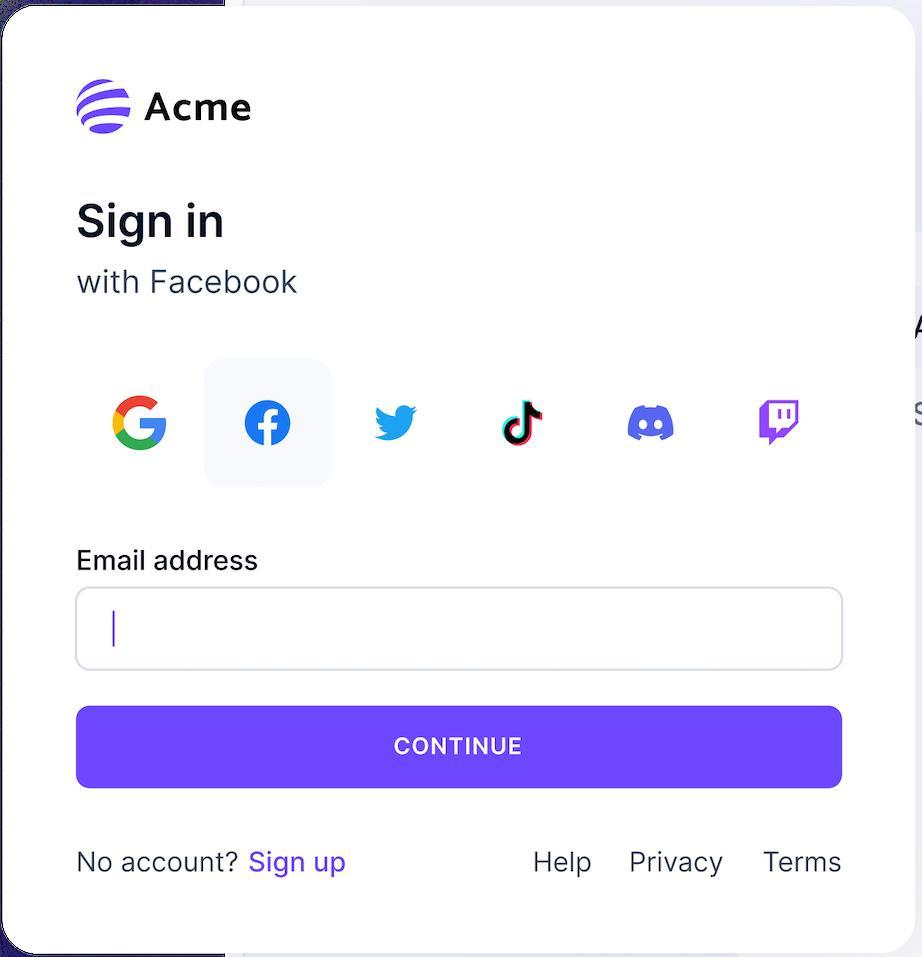button: (76, 706, 844, 790)
icon: (234, 398, 306, 454), (624, 395, 684, 453), (110, 394, 171, 451), (364, 397, 423, 452), (496, 396, 552, 453), (749, 395, 808, 447)
input: (79, 591, 845, 673)
label: (65, 548, 266, 575)
